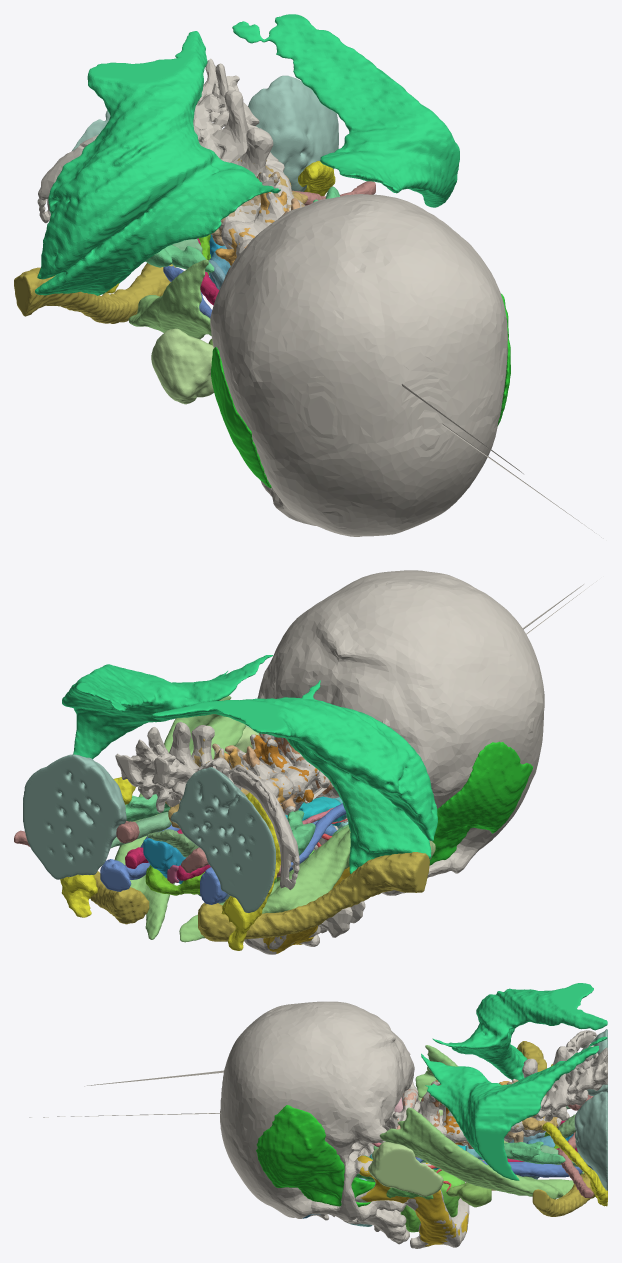
File: structures.glb
3 views of the same model, one above another, from view 1: azimuth 30°, elevation 25°; view 2: azimuth 150°, elevation 25°; view 3: azimuth 270°, elevation 25° (orthographic). The views are drawn at different scales.
Parts seen in each view (by area): view 1: Bones, Trapezius-Rt, Trapezius-Lt, Lung-Lt, Clavicle-Rt, Parotid-Rt, Sternocleidomastoid-Rt, Temporalis-Rt, Middle-Scalene-Rt, Rib-1-Lt, C5; view 2: Bones, Trapezius-Rt, Lung-Lt, Lung-Rt, Trapezius-Lt, Clavicle-Rt, Temporalis-Rt, Sternocleidomastoid-Rt, Sternocleidomastoid-Lt, Rib-1-Rt, Clavicle-Lt, Rib-1-Lt (+13 smaller); view 3: Bones, Trapezius-Lt, Trapezius-Rt, Temporalis-Lt, Sternocleidomastoid-Lt, Parotid-Lt, Lung-Lt, Mandible, Clavicle-Lt, Rib-1-Lt, Middle-Scalene-Lt, Tongue (+5 smaller).
Part boxes in pixels (left/top/right/bottom): Bones: left=37, top=58, right=594, bottom=536; Trapezius-Rt: left=35, top=31, right=280, bottom=295; Trapezius-Lt: left=232, top=14, right=459, bottom=207; Lung-Lt: left=248, top=75, right=338, bottom=191; Clavicle-Rt: left=14, top=263, right=175, bottom=323; Parotid-Rt: left=151, top=328, right=214, bottom=404; Sternocleidomastoid-Rt: left=128, top=259, right=211, bottom=339; Temporalis-Rt: left=211, top=347, right=271, bottom=488; Middle-Scalene-Rt: left=145, top=245, right=214, bottom=272; Rib-1-Lt: left=298, top=161, right=335, bottom=195; C5: left=215, top=191, right=289, bottom=265; Bones: left=115, top=570, right=597, bottom=954; Trapezius-Rt: left=151, top=680, right=437, bottom=873; Lung-Lt: left=23, top=754, right=126, bottom=879; Lung-Rt: left=170, top=767, right=275, bottom=912; Trapezius-Lt: left=62, top=655, right=272, bottom=759; Clavicle-Rt: left=198, top=852, right=429, bottom=941; Temporalis-Rt: left=429, top=741, right=532, bottom=865; Sternocleidomastoid-Rt: left=179, top=826, right=350, bottom=942; Sternocleidomastoid-Lt: left=114, top=695, right=246, bottom=939; Rib-1-Rt: left=221, top=792, right=280, bottom=950; Clavicle-Lt: left=90, top=871, right=149, bottom=924; Rib-1-Lt: left=60, top=777, right=135, bottom=917; Bones: left=29, top=1001, right=607, bottom=1248; Trapezius-Lt: left=421, top=1036, right=607, bottom=1180; Trapezius-Rt: left=432, top=983, right=607, bottom=1080; Temporalis-Lt: left=256, top=1105, right=375, bottom=1207; Sternocleidomastoid-Lt: left=379, top=1107, right=573, bottom=1199; Parotid-Lt: left=368, top=1142, right=443, bottom=1196; Lung-Lt: left=574, top=1091, right=607, bottom=1190; Mandible: left=357, top=1155, right=468, bottom=1246; Clavicle-Lt: left=532, top=1173, right=595, bottom=1216; Rib-1-Lt: left=542, top=1122, right=607, bottom=1206; Middle-Scalene-Lt: left=504, top=1141, right=565, bottom=1164; Tongue: left=400, top=1169, right=464, bottom=1232.
Size of the model in its own units: 243 by 204 by 481.
